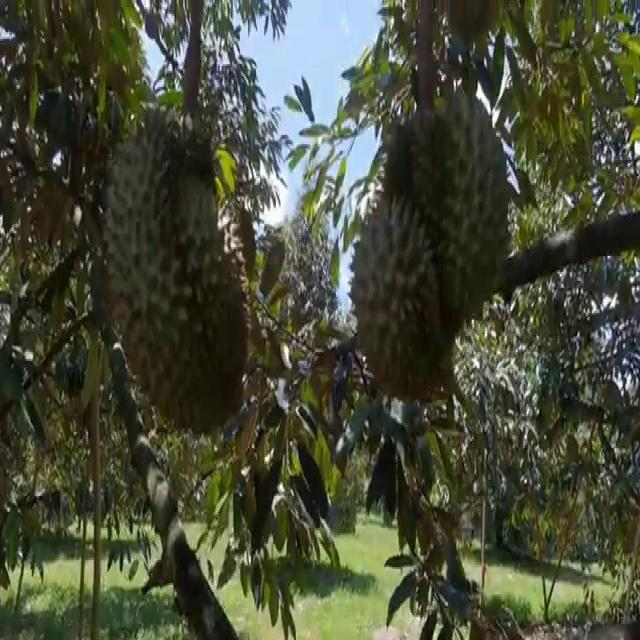durian: (99, 95, 256, 442), (371, 80, 518, 338), (348, 173, 456, 413)
